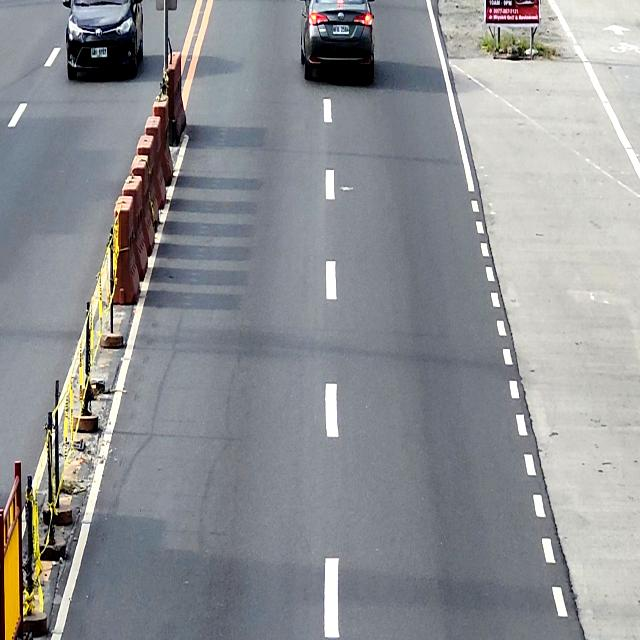Car: (62, 0, 144, 80), (300, 0, 375, 82)
License-Plate: (90, 47, 107, 58), (332, 25, 349, 35)
